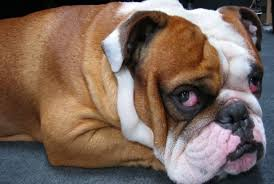Bulldog: (14, 6, 273, 177)
